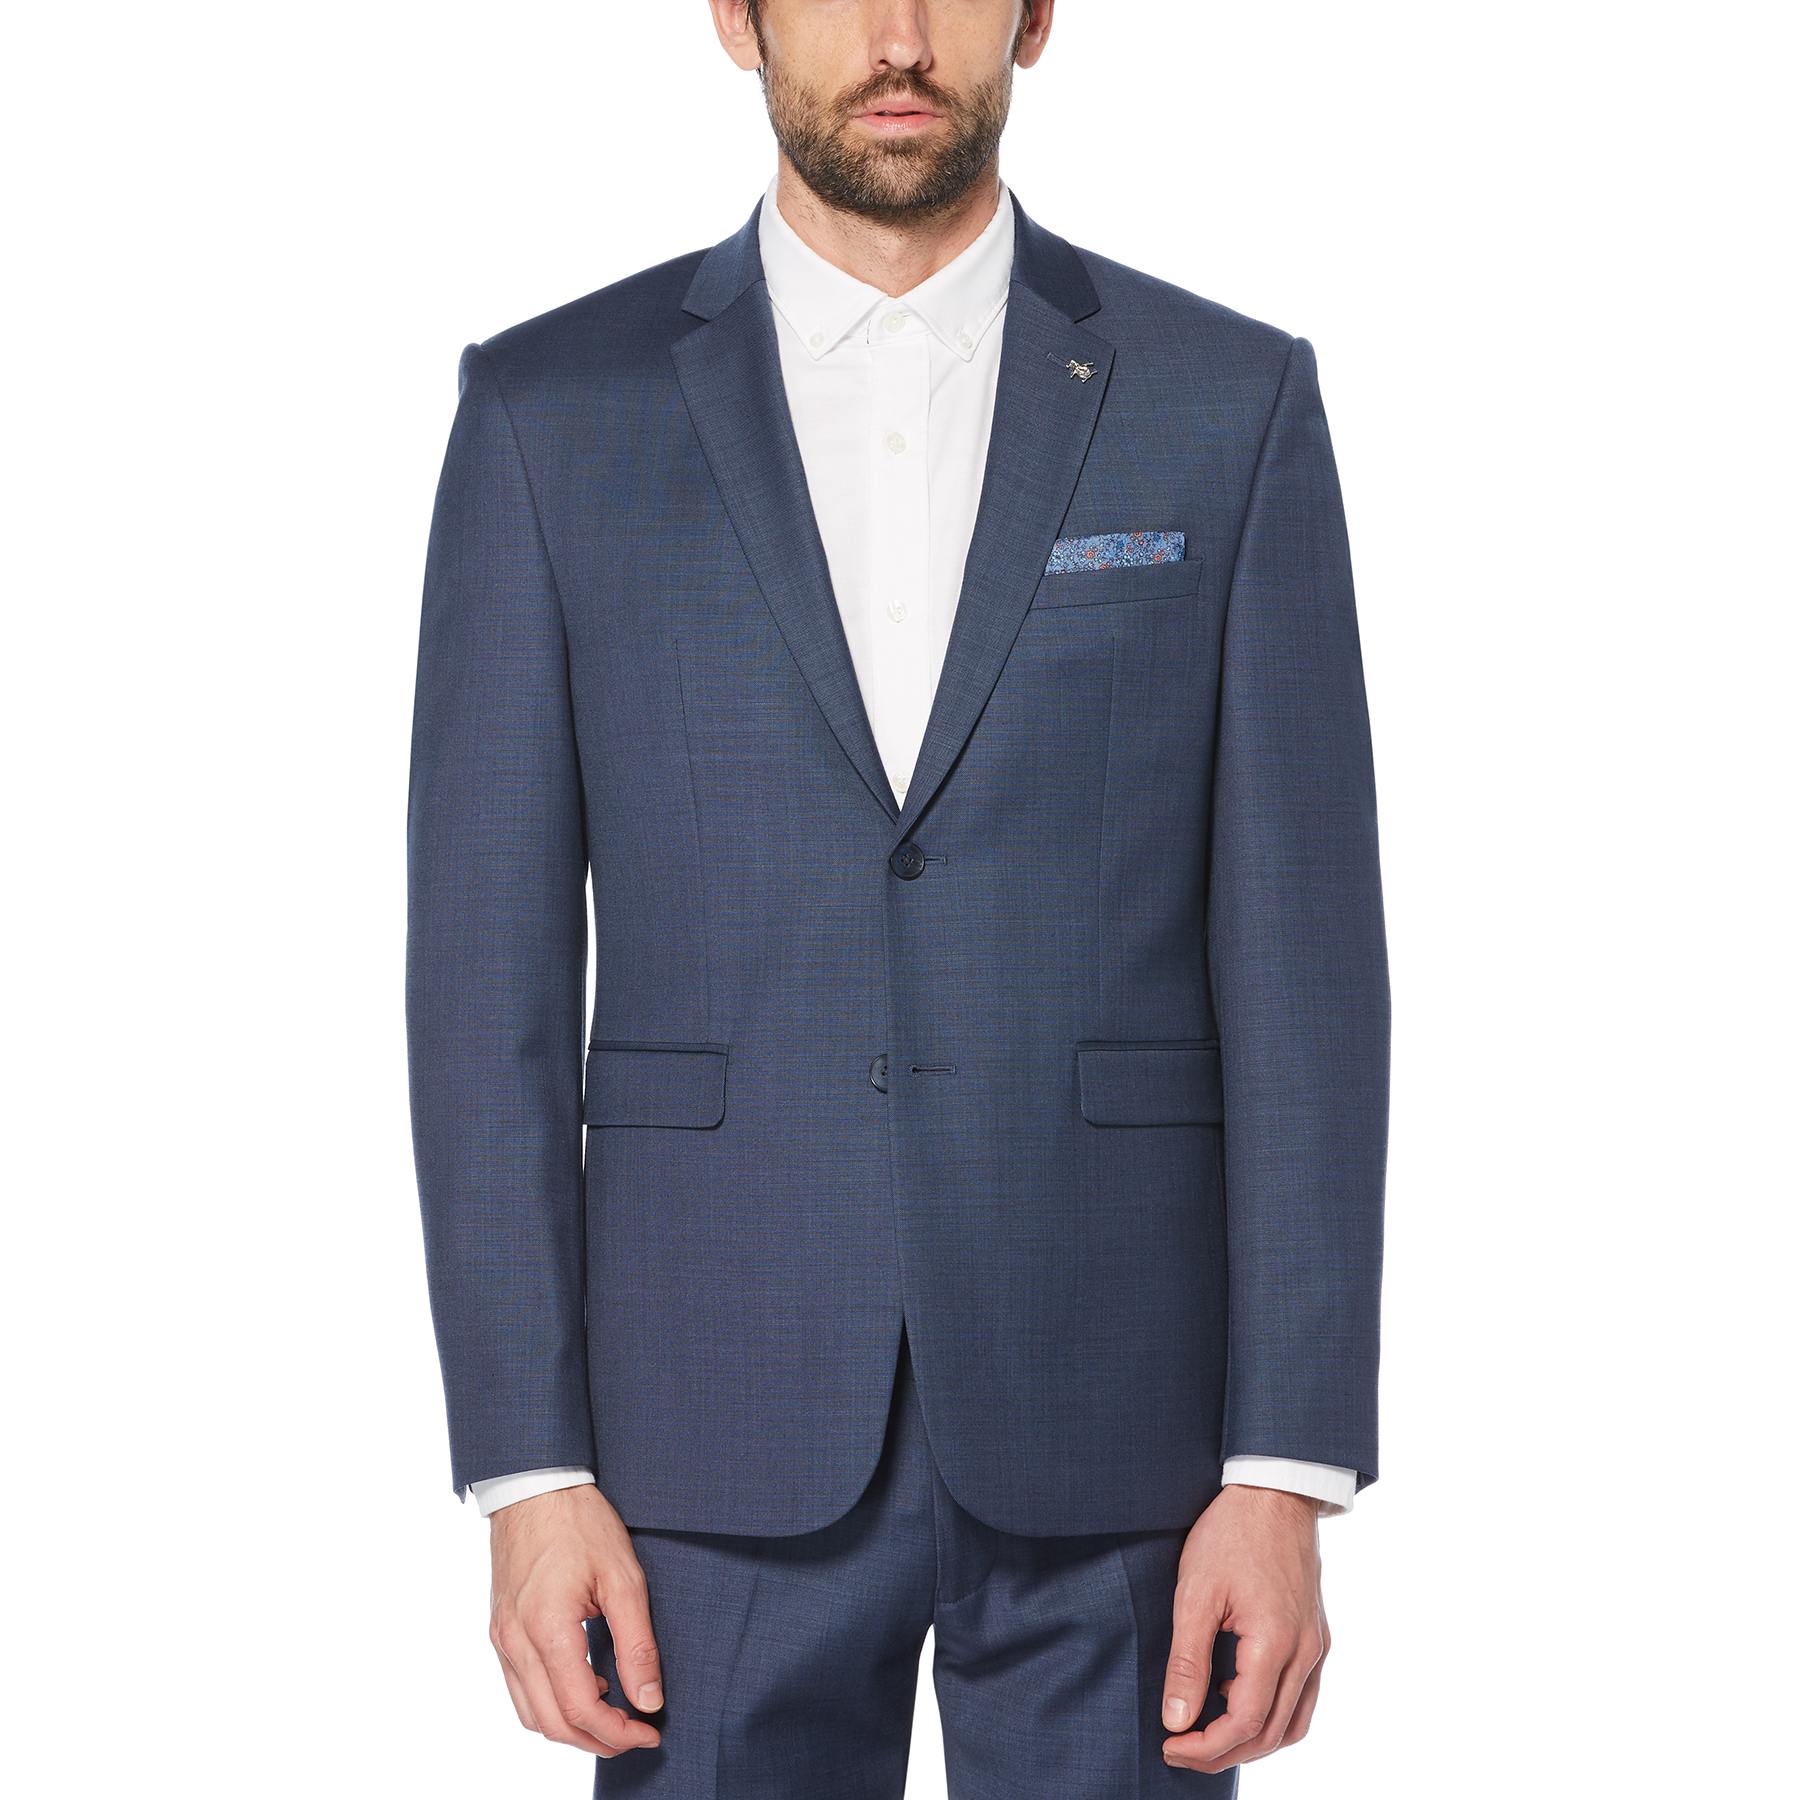F_M_suit jacket: (399, 214, 1497, 1531)
F_shirt: (737, 195, 1002, 776)
